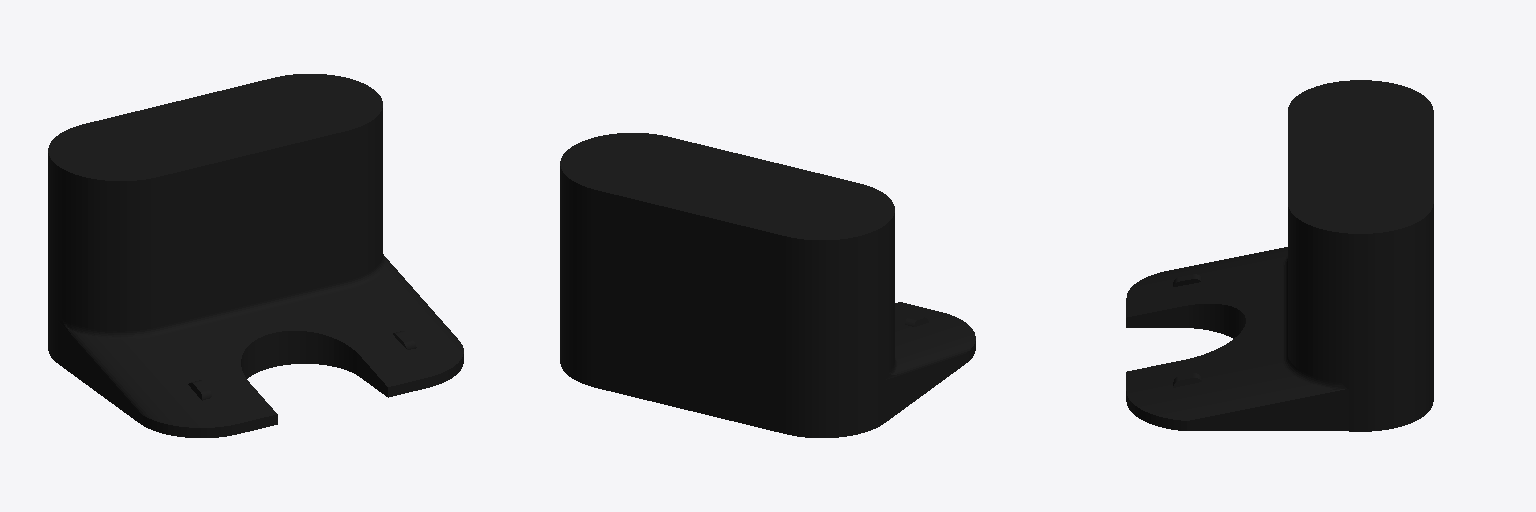
Rendered from 充电座.obj.
The picture shows the model from 3 angles: view 1: azimuth 30°, elevation 25°; view 2: azimuth 150°, elevation 25°; view 3: azimuth 270°, elevation 25°; orthographic projection.
Visible parts, largest first — view 1: 布尔.1; view 2: 布尔.1; view 3: 布尔.1.
Boxes of the visible parts, x1,y1,x2,y2 form: 布尔.1: [48, 74, 463, 437]; 布尔.1: [560, 133, 975, 437]; 布尔.1: [1126, 80, 1433, 431].
Size of the model in its own units: 200 by 120 by 169.